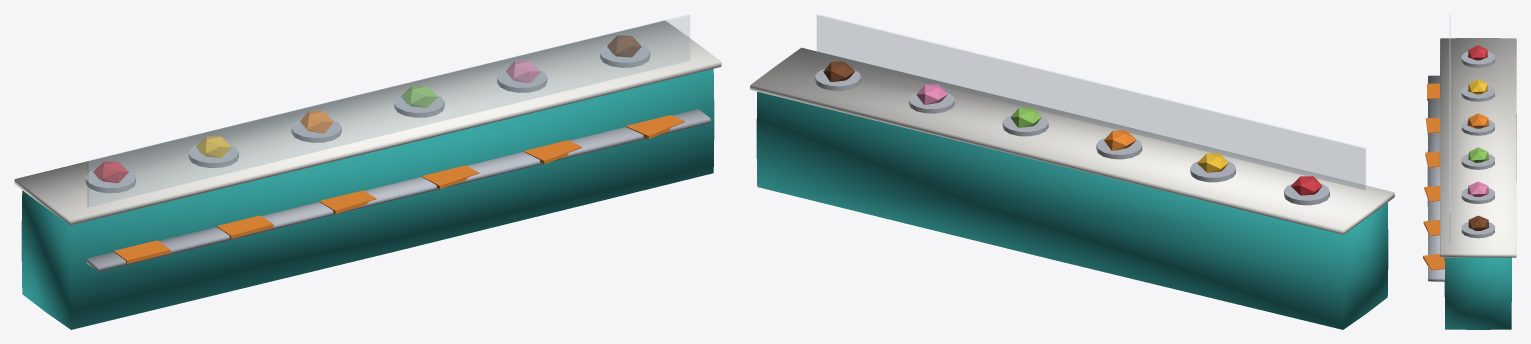
The model's file is canteen_counter.glb.
3 renders of one model, left to right at view 1: azimuth 30°, elevation 25°; view 2: azimuth 150°, elevation 25°; view 3: azimuth 270°, elevation 25°, orthographic. The views are drawn at different scales.
Parts seen in each view (by area): view 1: root; view 2: root; view 3: root.
Boxes of the visible parts, bbox=[...] form: root: bbox=[14, 14, 721, 329]; root: bbox=[750, 14, 1394, 329]; root: bbox=[1423, 14, 1516, 329].
Size of the model in its own units: 5.22 by 1.24 by 0.9589.
